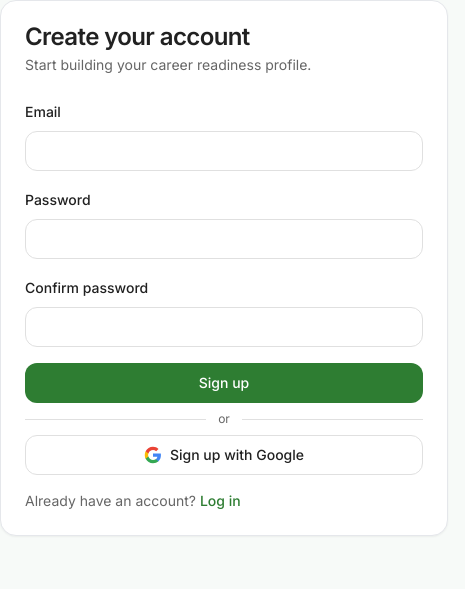
SignupForm › shows duplicate signup error
Type "jane@example.com" into the field labelled "Email" at (224,151), box [25,131,423,171]
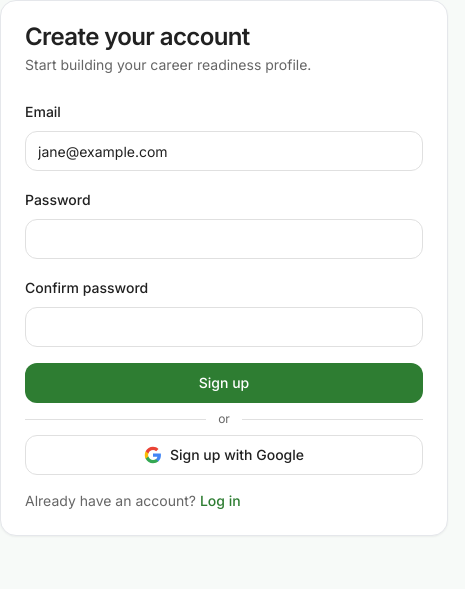
Type "password123" into the password field labelled "Password" at (224,239), box [25,219,423,259]
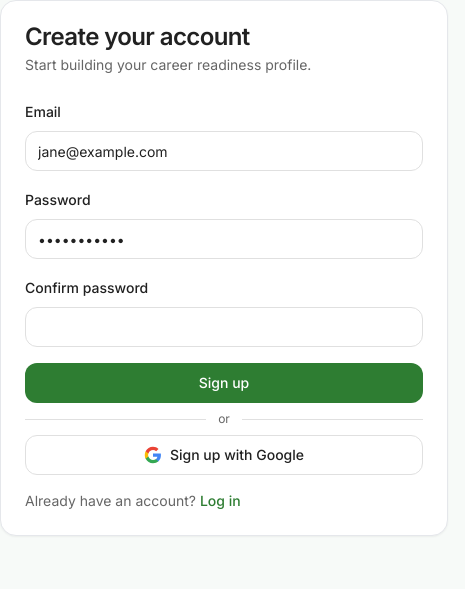
Type "password123" into the password field labelled "Confirm password" at (224,327), box [25,307,423,347]
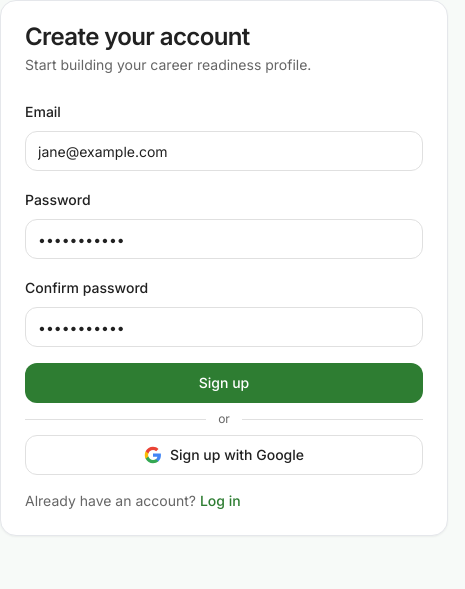
Click the button "Sign up" at (224,383), box [25,363,423,403]
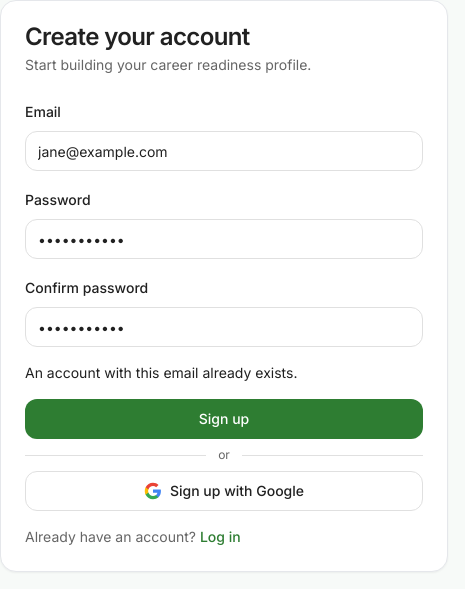
Expected: the text "An account with this email already exists." is shown, [25,364,298,381]
